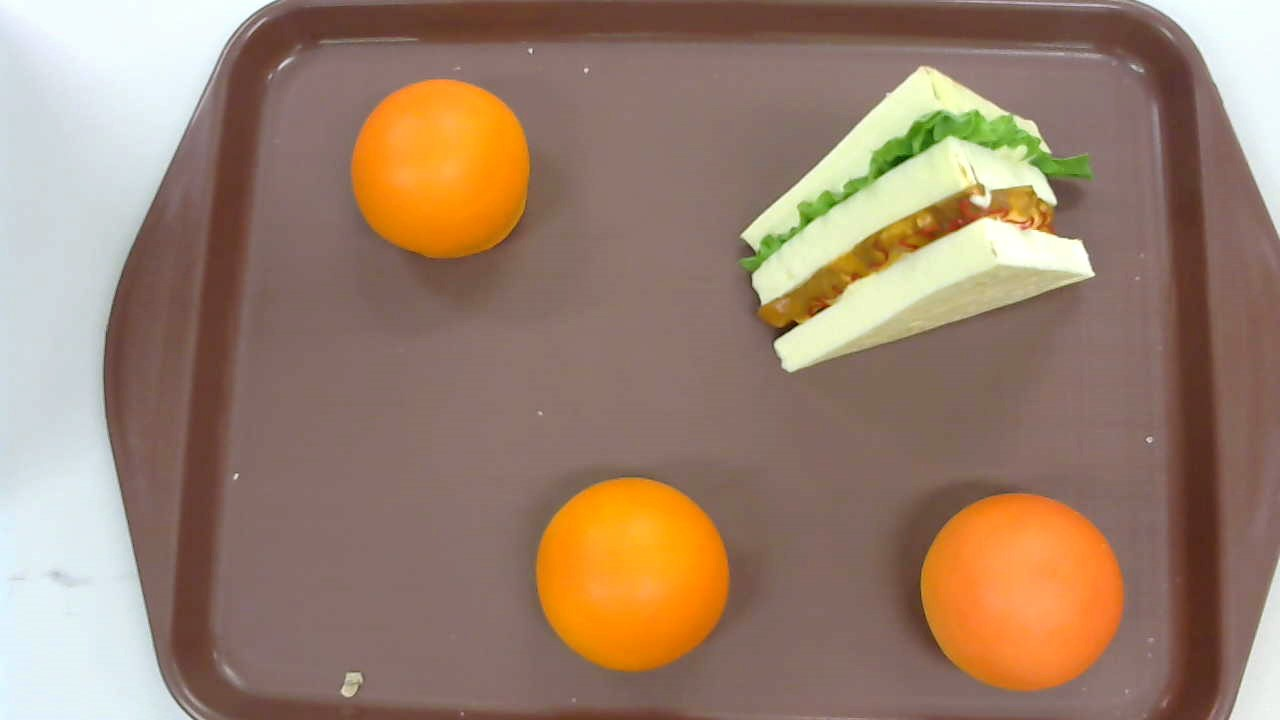bun: (920, 492, 1124, 691), (535, 478, 730, 670), (351, 78, 530, 262)
sandwich: (738, 64, 1095, 372)
